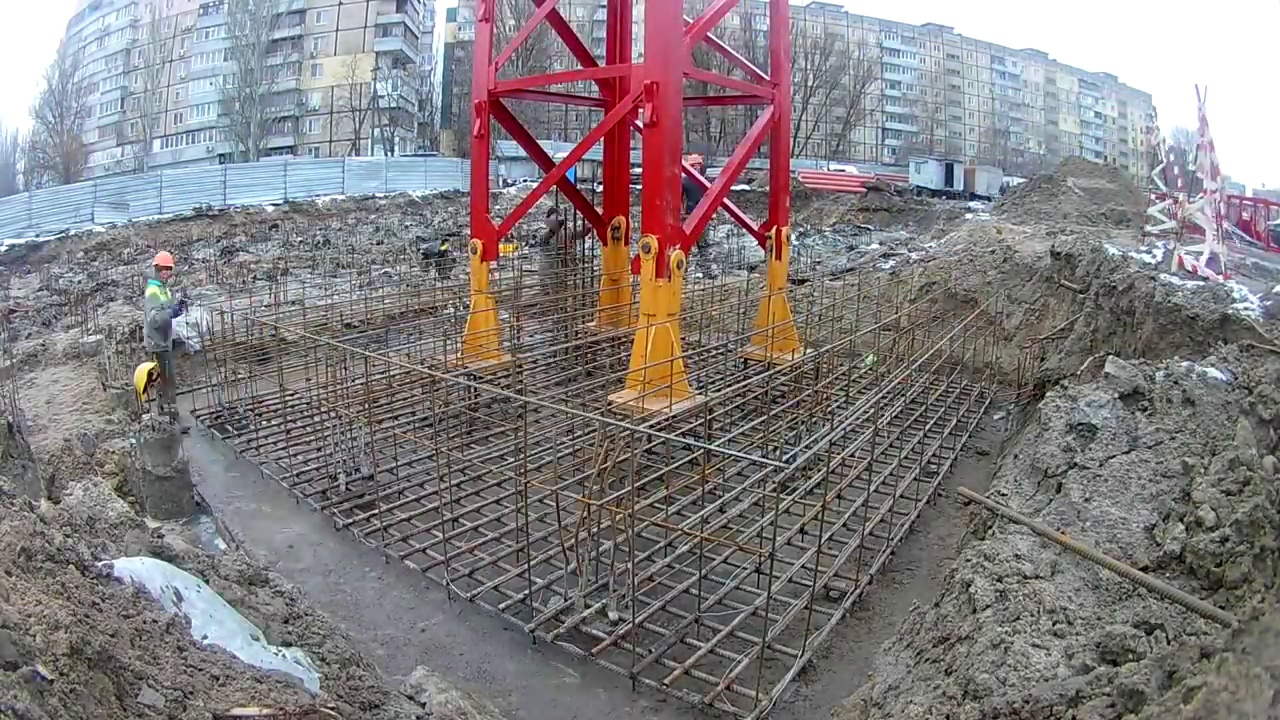helmet: (132, 362, 160, 403), (151, 253, 173, 268), (685, 153, 704, 166)
helmet-off: (543, 205, 569, 234)
helmet-on: (682, 152, 709, 185), (150, 253, 174, 288)
person: (142, 250, 186, 412), (680, 151, 721, 280), (541, 206, 590, 255)
